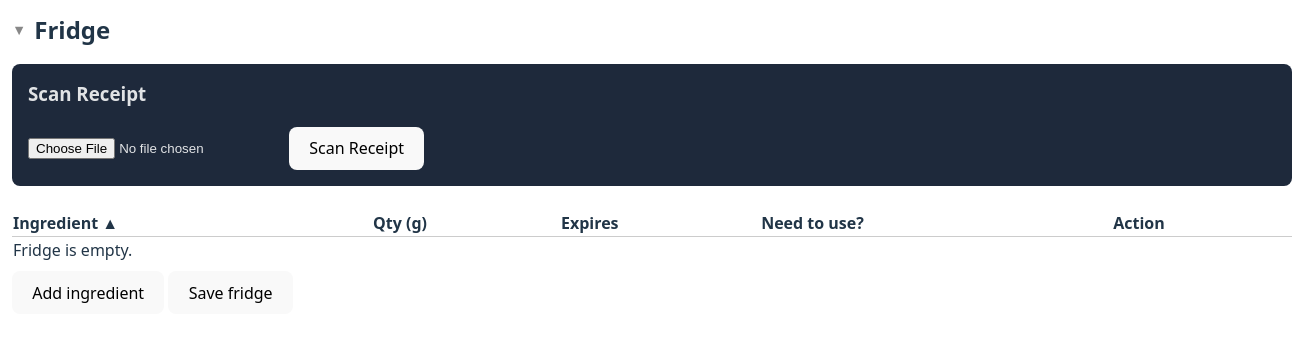
Test: Fridge › adds a new item
Expected: the text "Fridge is empty." is shown, [12,236,1291,263]
Step 1. Click the button "Add ingredient" → (88, 293), box [12,271,164,314]
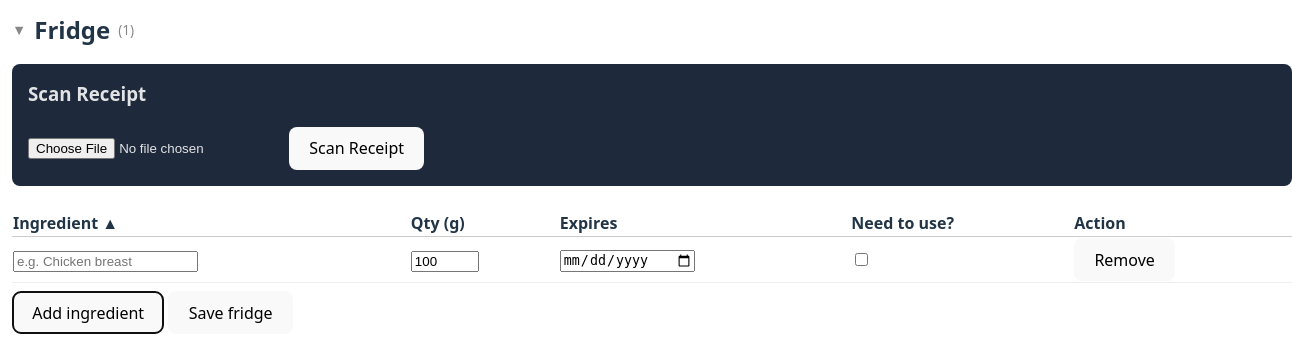
Expected: the number of fields with placeholder "e.g. Chicken breast" is 1, [13,251,198,272]
